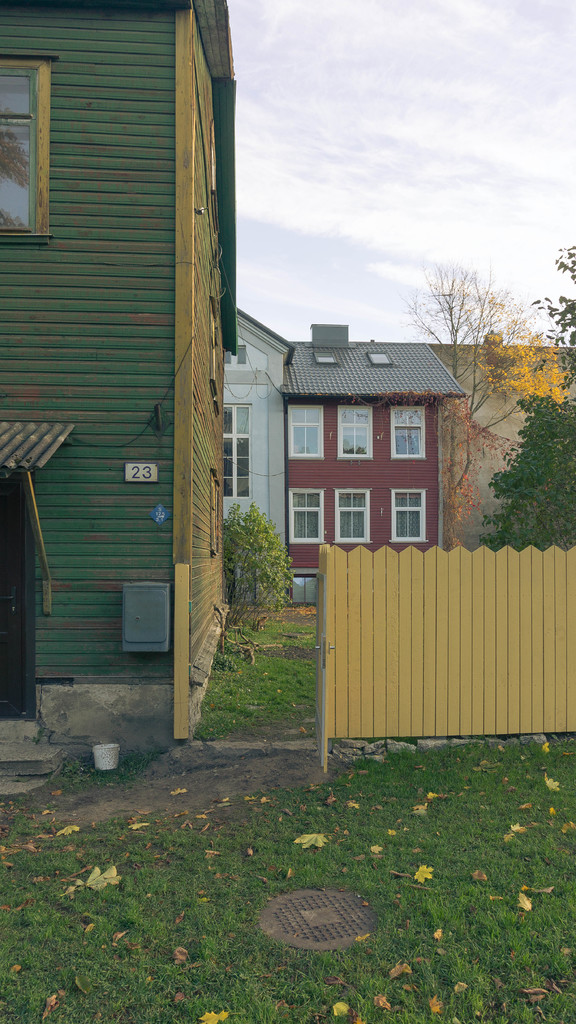Tree: (395, 258, 547, 551), (467, 237, 575, 541)
